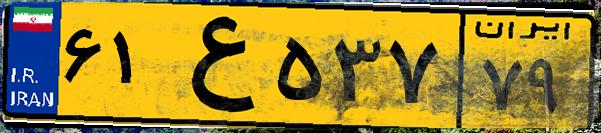1: (110, 28, 158, 98)
3: (330, 28, 385, 110)
5: (270, 28, 330, 110)
6: (57, 26, 110, 100)
7: (385, 28, 445, 110), (475, 38, 525, 113)
9: (525, 38, 570, 115)
ع: (158, 12, 270, 120)
